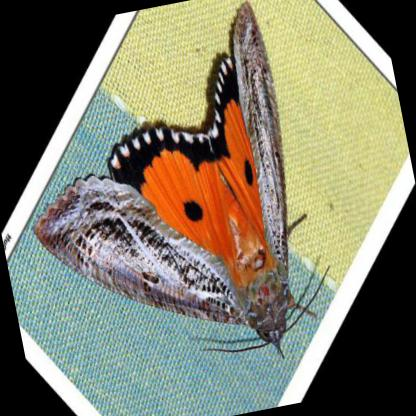fruit sucking moth: (31, 0, 292, 353)
